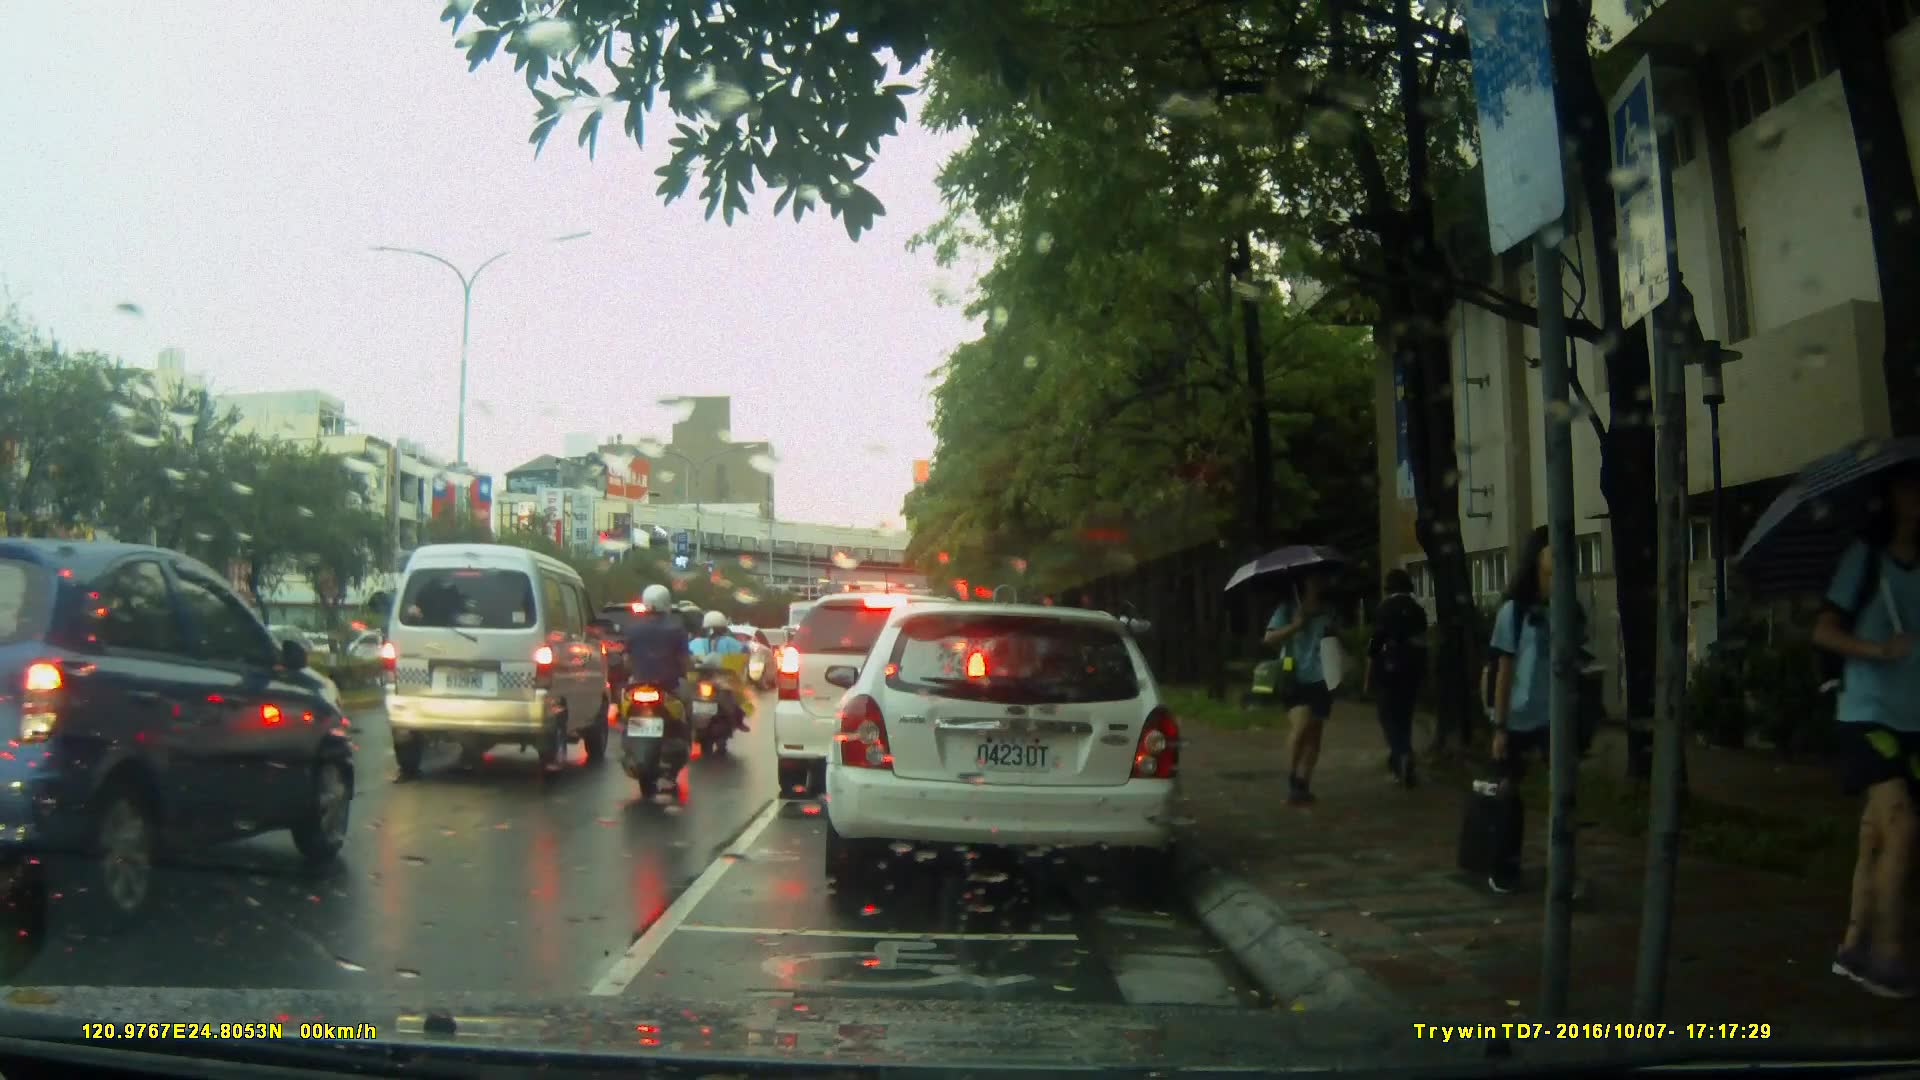pedestrian: (1785, 462, 1920, 1001), (1479, 508, 1605, 933), (1357, 563, 1439, 798), (1269, 556, 1343, 811)
rider: (621, 580, 698, 803), (681, 610, 748, 761)
vehicle: (3, 535, 359, 930), (815, 593, 1204, 909), (373, 542, 608, 778), (770, 590, 993, 802), (582, 603, 737, 725)
